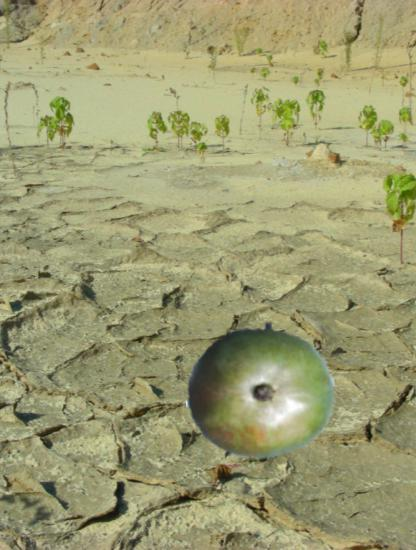Mango: (185, 315, 335, 465)
